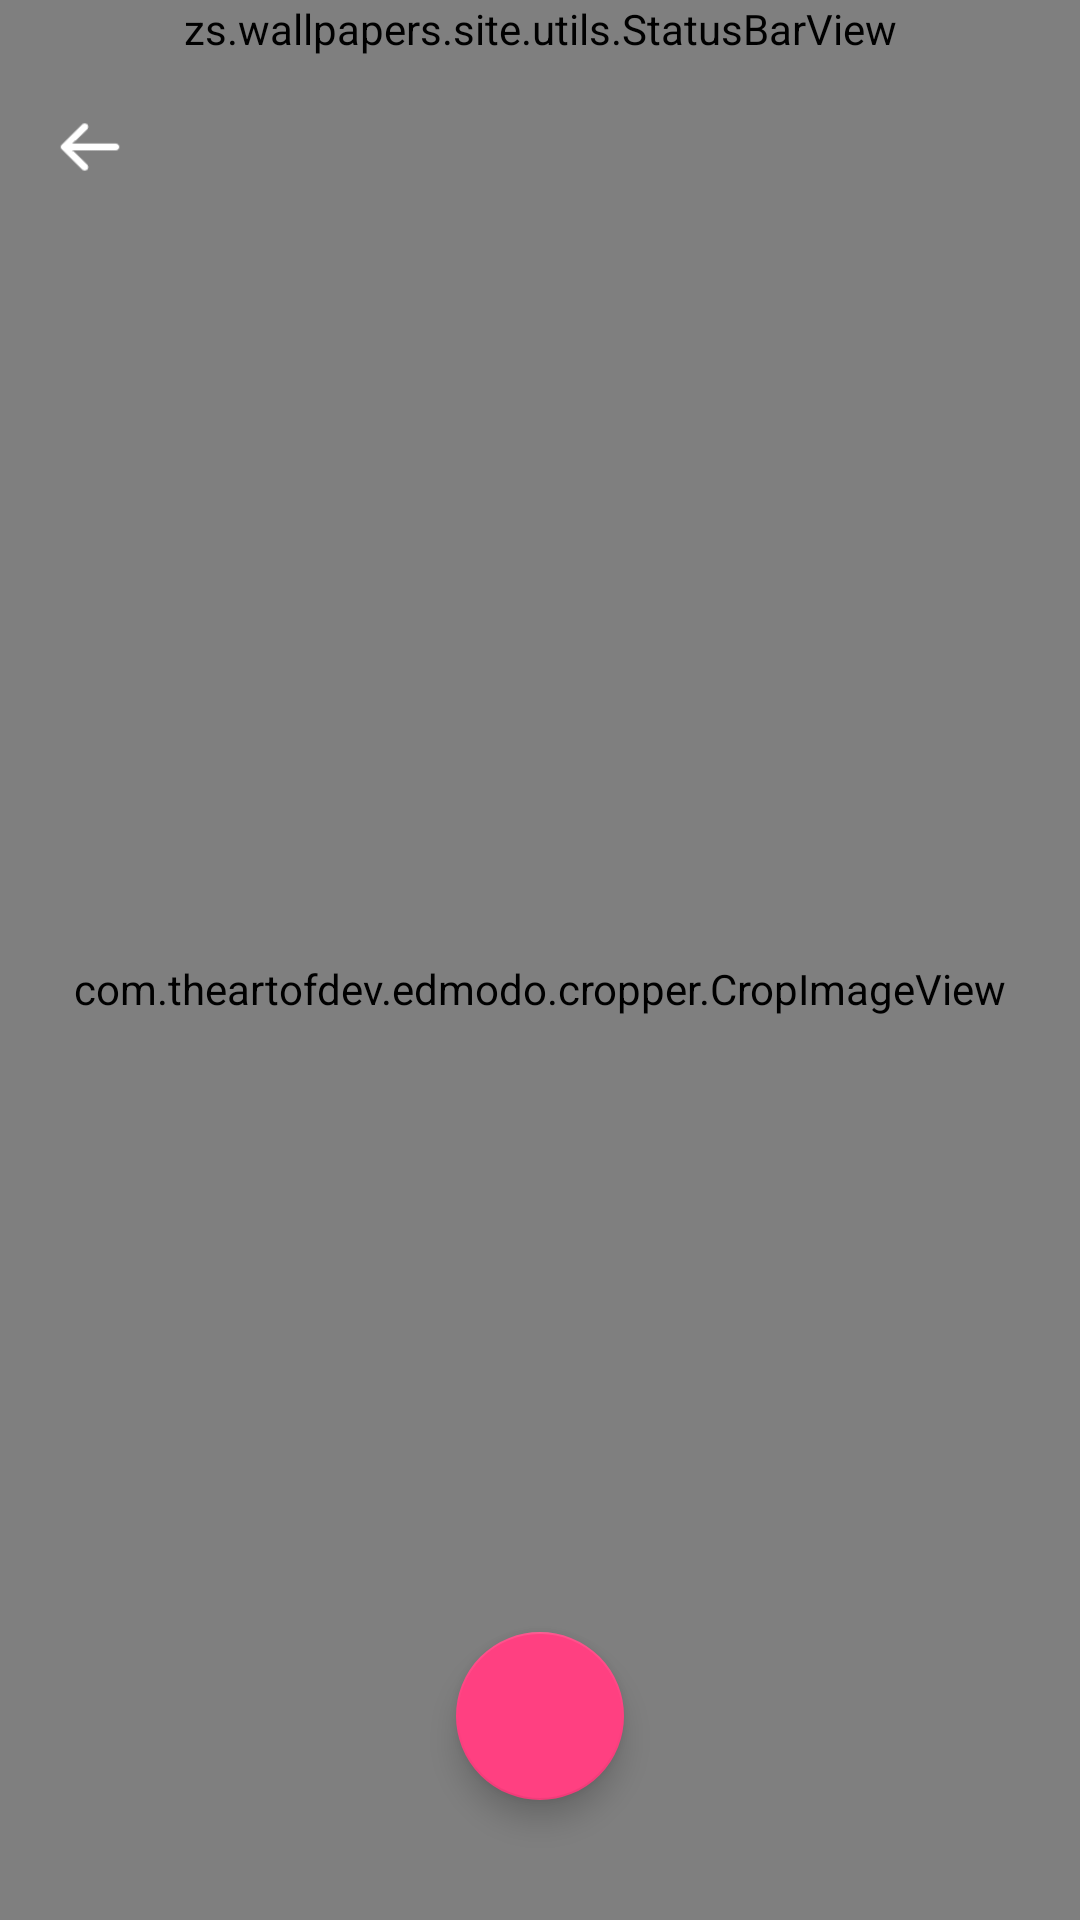

Icon click points for this 1080 x 1920 phone screenshot, format (x=x, y=y):
back: (x=90, y=147)
